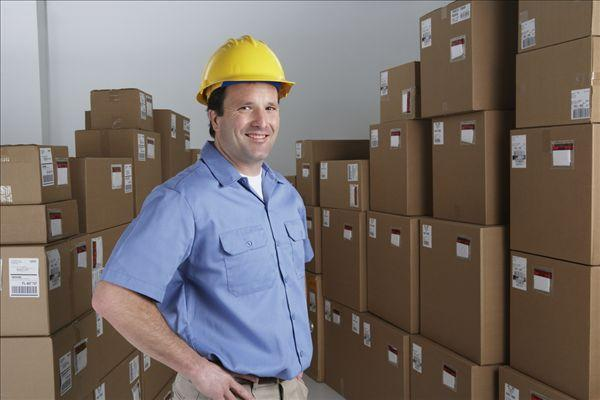helmet: (199, 35, 296, 100)
